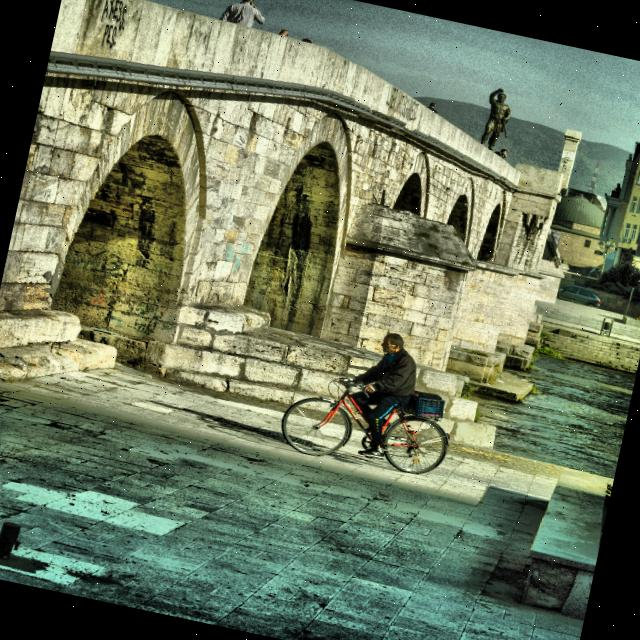stone bridge: (0, 0, 613, 466)
